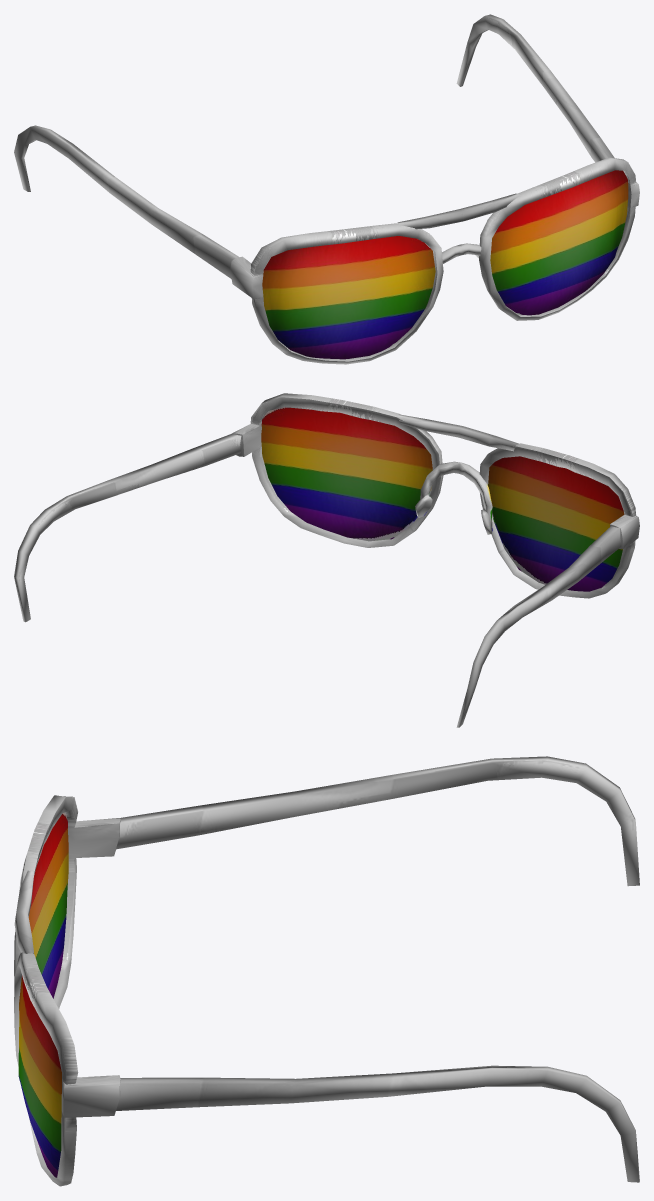
The picture shows the model from 3 angles, top to bottom: view 1: azimuth 30°, elevation 25°; view 2: azimuth 150°, elevation 25°; view 3: azimuth 270°, elevation 25°; orthographic projection. The views are drawn at different scales.
Parts seen in each view (by area): view 1: Wolf3D_Glasses; view 2: Wolf3D_Glasses; view 3: Wolf3D_Glasses.
Part boxes in pixels (x1=…): Wolf3D_Glasses: x1=14, y1=14, x2=639, y2=364; Wolf3D_Glasses: x1=14, y1=393, x2=639, y2=727; Wolf3D_Glasses: x1=14, y1=756, x2=639, y2=1186.
Bounding box in the file's own units: 0.1637 × 0.047 × 0.1371.
1 material, 1 textured.
